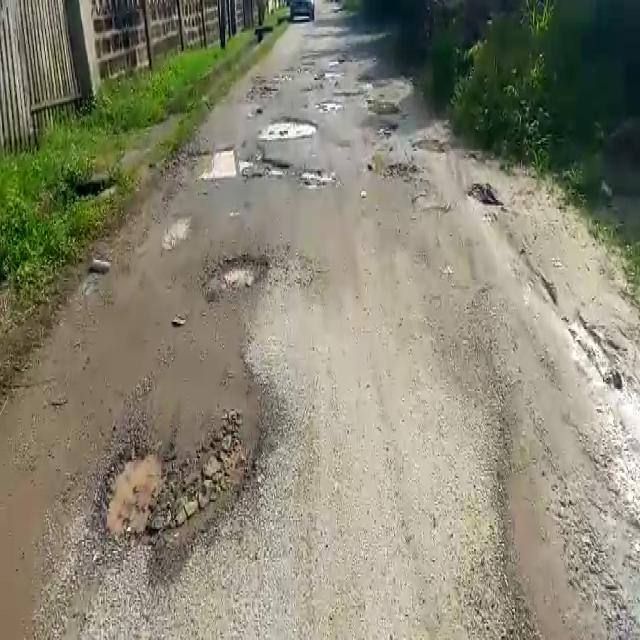Pothole: (88, 412, 278, 557), (197, 248, 297, 297), (190, 143, 282, 180), (259, 115, 318, 142), (299, 168, 339, 190)
